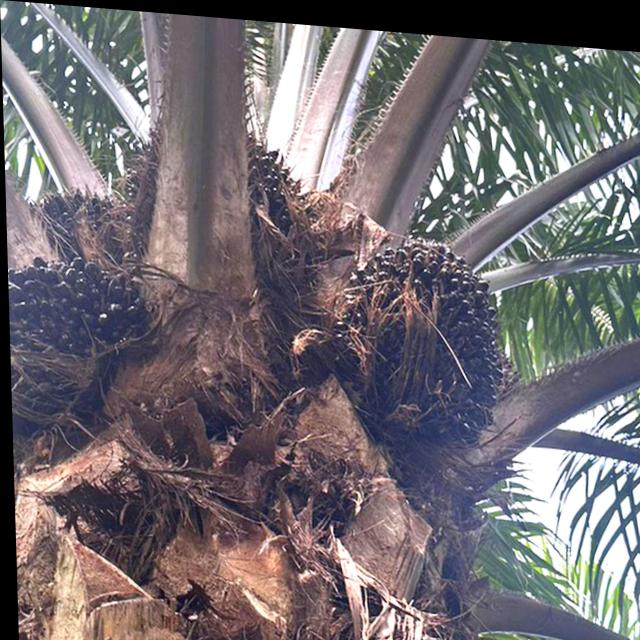almost: (331, 218, 509, 441), (6, 240, 151, 440), (167, 92, 305, 272), (31, 167, 140, 260)
